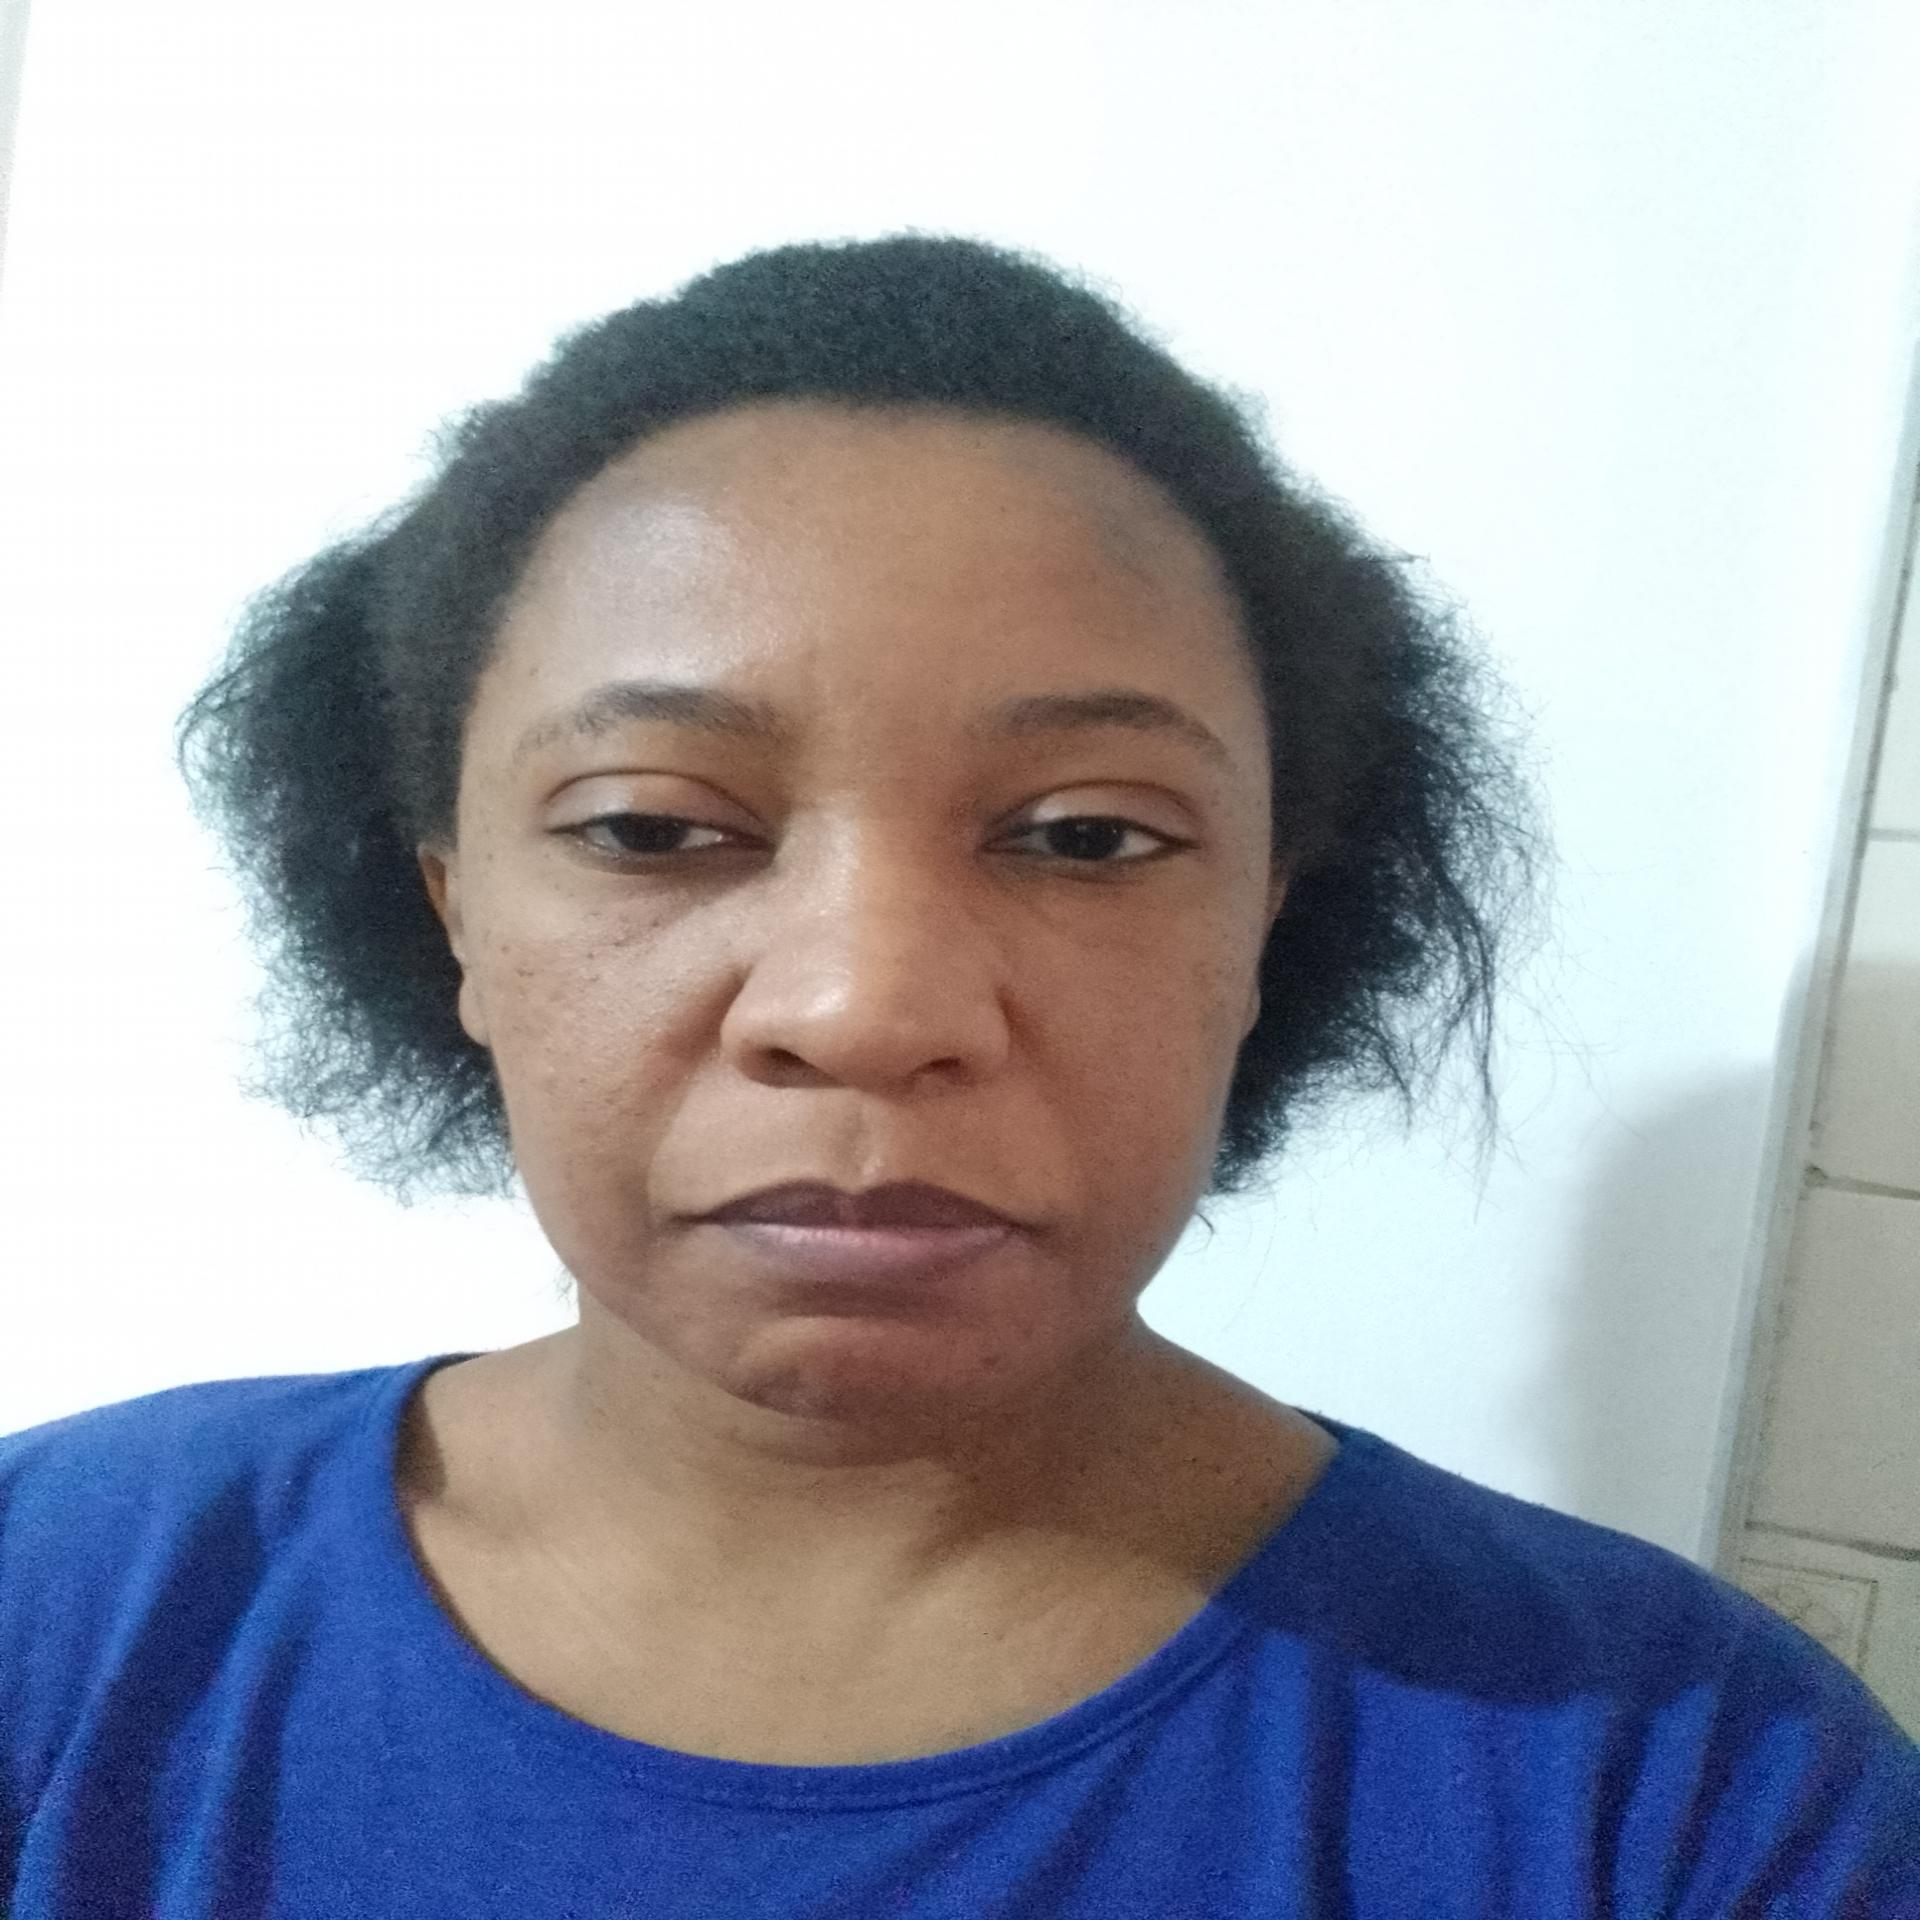Acne: (1201, 895, 1241, 953), (498, 948, 547, 995), (1189, 964, 1248, 997), (636, 1016, 680, 1050), (527, 1062, 568, 1090), (971, 1350, 1016, 1375), (571, 969, 608, 995), (475, 842, 503, 865), (1178, 1062, 1199, 1080), (1155, 1039, 1167, 1064)
Dark Circles: (960, 856, 1175, 953), (549, 865, 760, 958)
Englarged Pores: (638, 965, 717, 1006)
Wrinkles: (760, 1305, 921, 1340), (1025, 1076, 1090, 1150), (1065, 1148, 1120, 1208), (619, 1187, 672, 1247), (651, 1109, 696, 1175), (793, 645, 826, 714), (673, 1071, 703, 1106)
